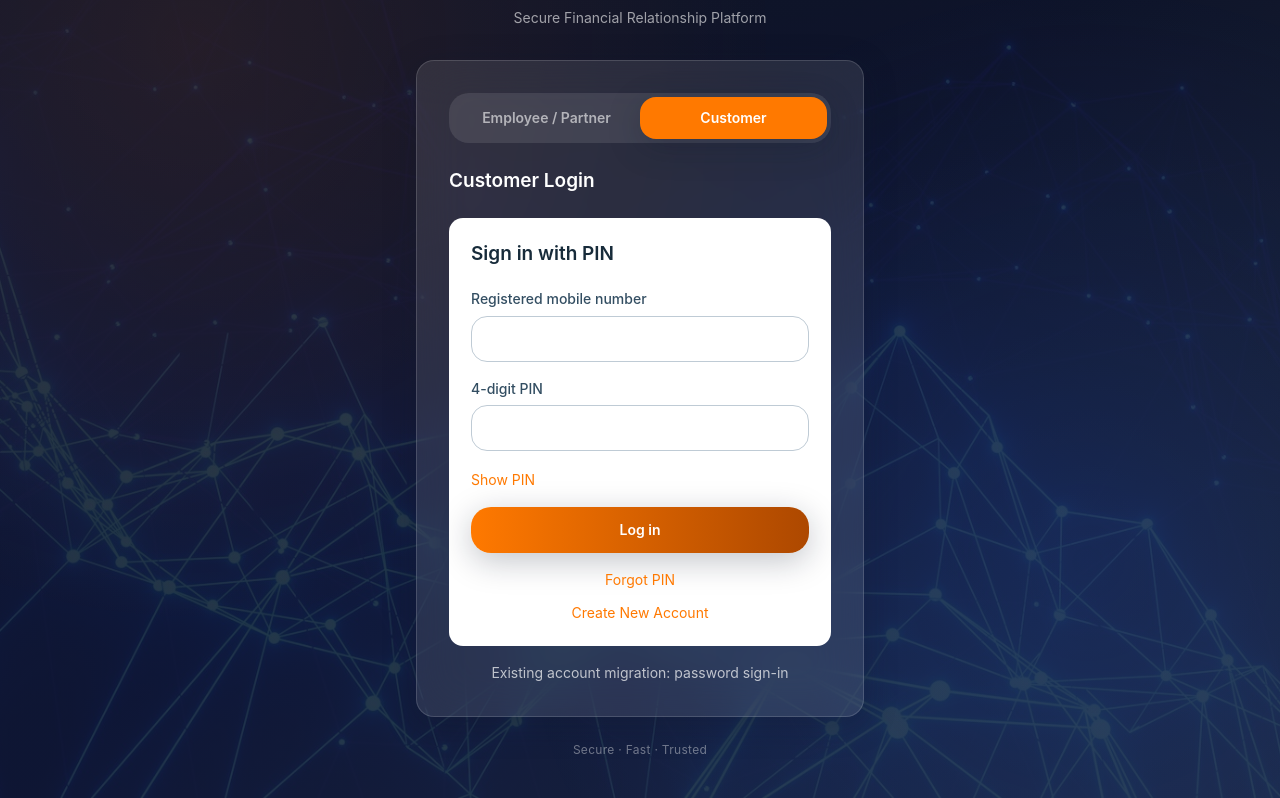
Test case: LoginPage default tab › orders the customer links, preserves the registration return path and opens migration
(page scrolled)
Click the button "Existing account migration: password sign-in" at coordinates (640, 673), box [491,662,788,684]
(page scrolled)
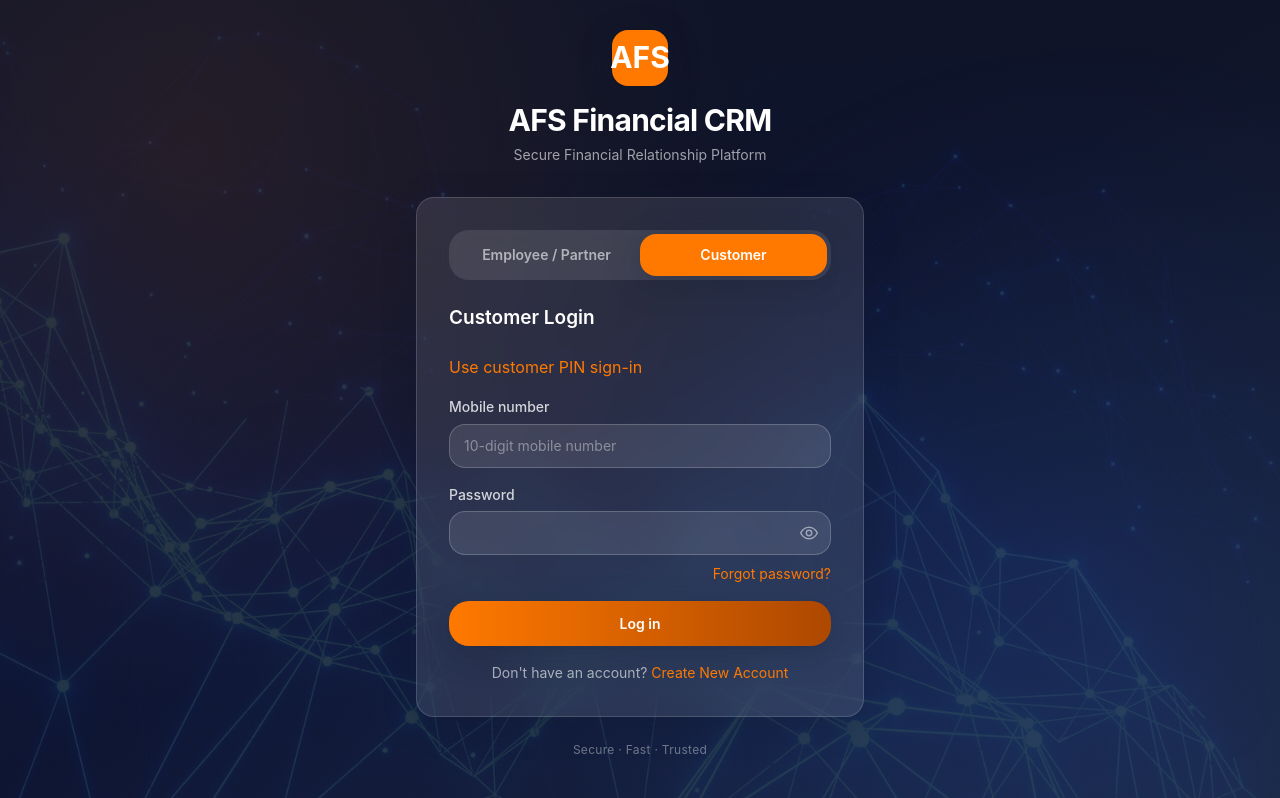
Result: the password field with id "customer-password" is shown at [449,511,831,555]
Click the button "Use customer PIN sign-in" at coordinates (546, 368), box [449,355,642,380]
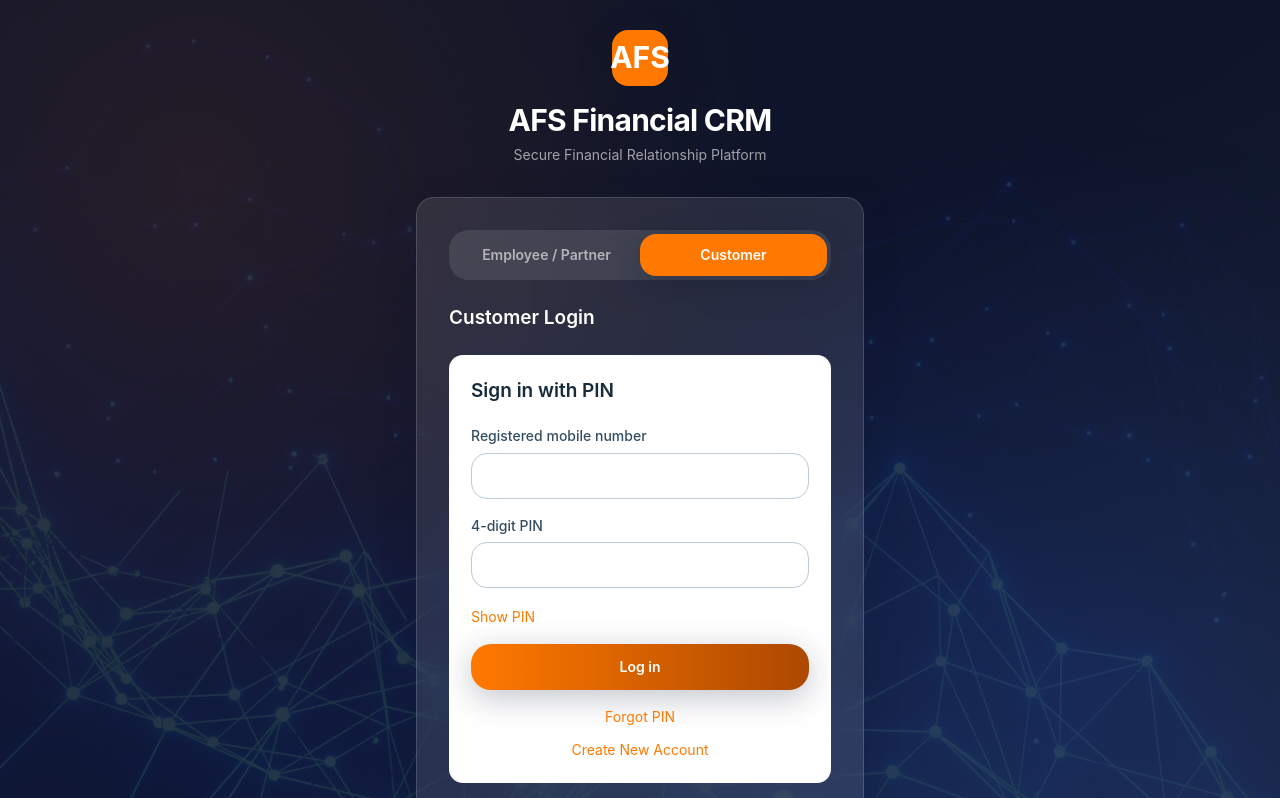
Result: the password field labelled "4-digit PIN" is shown at [471,542,809,588]
